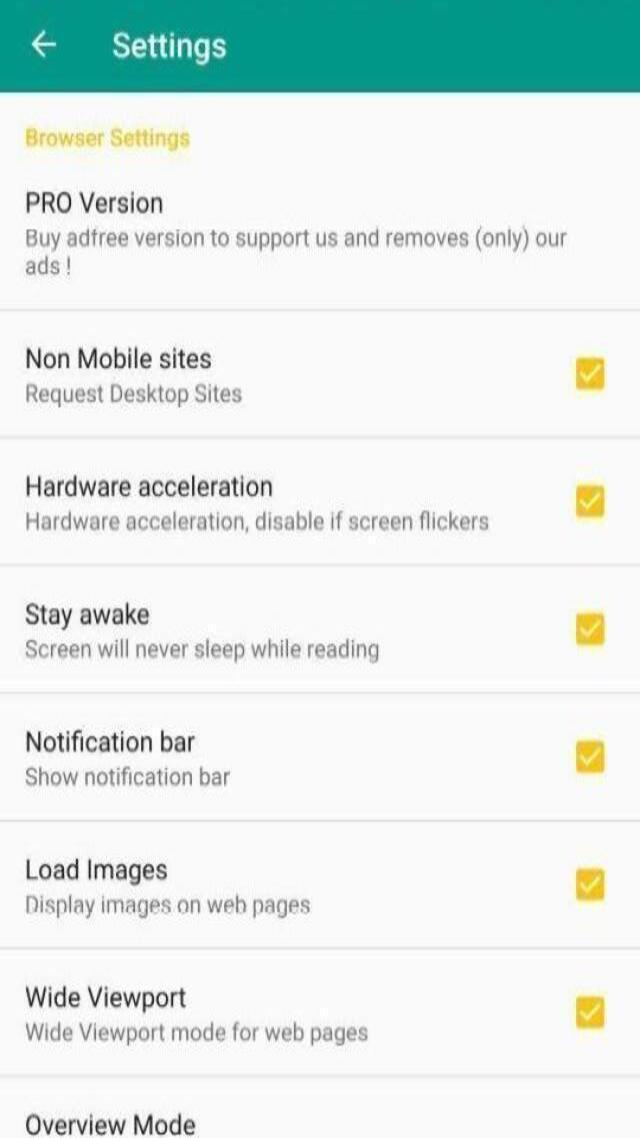CheckedTextView: (574, 357, 606, 389), (575, 612, 605, 645), (576, 996, 605, 1030), (576, 484, 604, 518), (576, 868, 604, 901), (576, 741, 604, 772)
Icon: (26, 29, 62, 64)
Text: (22, 226, 573, 254), (21, 508, 497, 534), (20, 1018, 372, 1052), (24, 634, 384, 666), (23, 892, 314, 922), (22, 473, 276, 504), (21, 378, 248, 409), (23, 340, 214, 376), (16, 762, 234, 792), (19, 120, 194, 156), (104, 28, 233, 71), (18, 729, 198, 758), (21, 982, 192, 1012), (19, 188, 169, 221), (23, 855, 173, 888), (23, 598, 154, 632), (21, 254, 94, 282)
